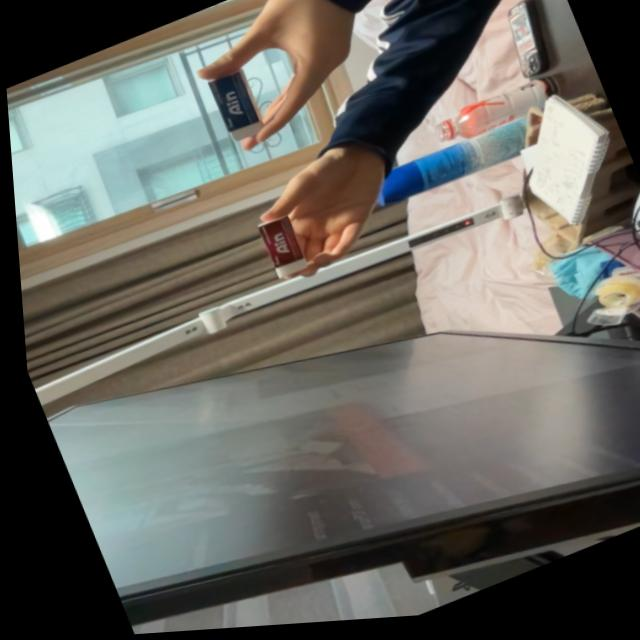blue: (202, 66, 267, 150)
red: (249, 212, 308, 285)
